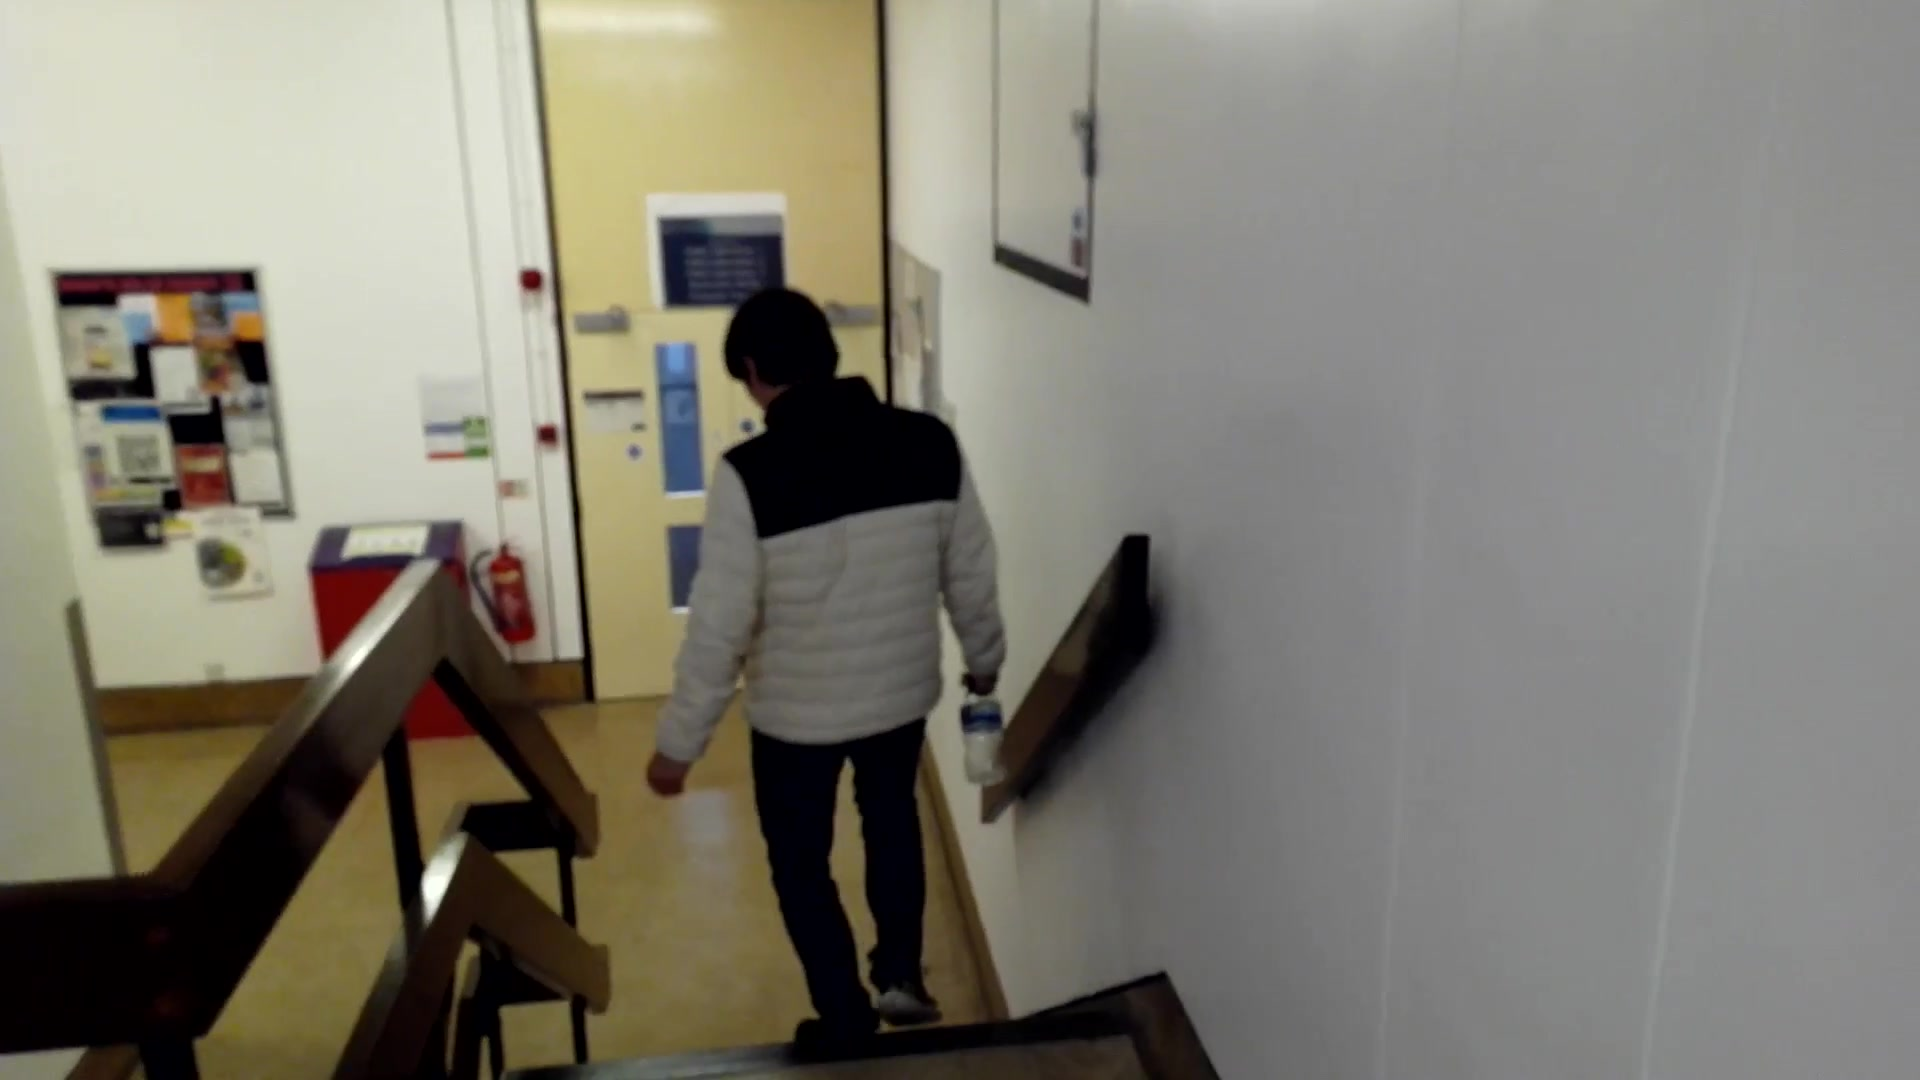Person: (669, 275, 1038, 1026)
